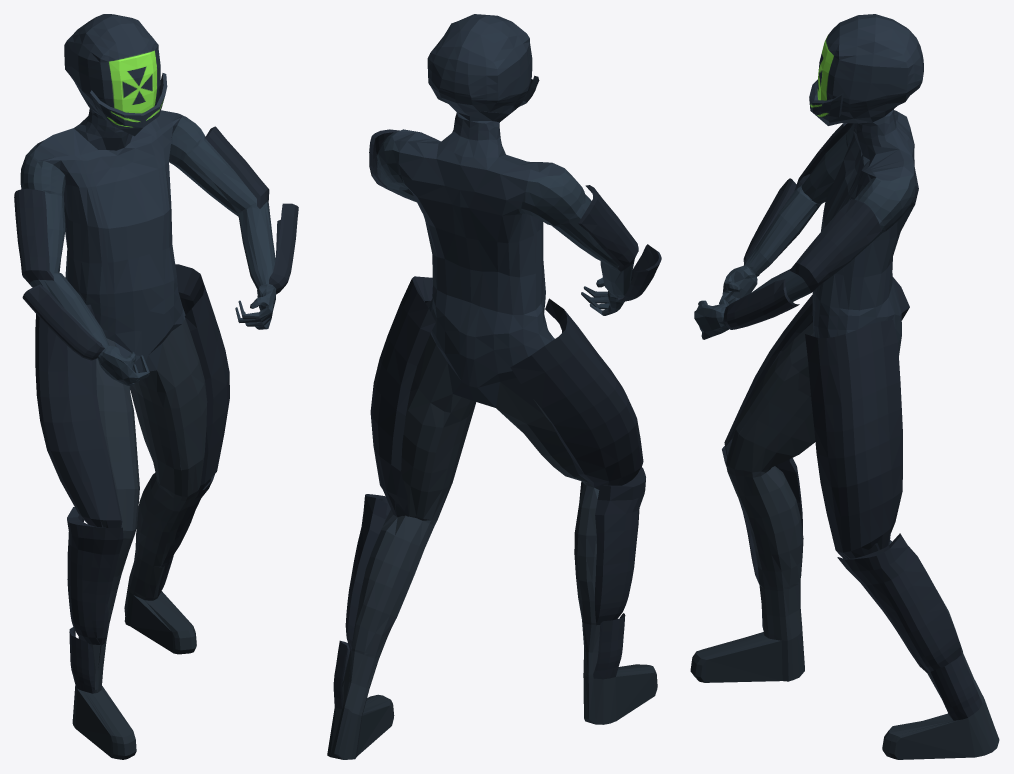
Rendered from Bastion_Stun_000009.obj.
3 views of the same model, side by side, from view 1: azimuth 30°, elevation 25°; view 2: azimuth 150°, elevation 25°; view 3: azimuth 270°, elevation 25° (orthographic). The views are drawn at different scales.
Parts seen in each view (by area): view 1: Cube.002; view 2: Cube.002; view 3: Cube.002.
Part boxes in pixels (box(x1,y1,x2,y2)): Cube.002: box(14, 14, 298, 759); Cube.002: box(327, 14, 661, 759); Cube.002: box(690, 14, 999, 759).
Size of the model in its own units: 1.6 by 3.72 by 1.5.
